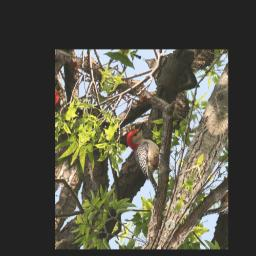Woodpecker: (108, 116, 183, 197)
